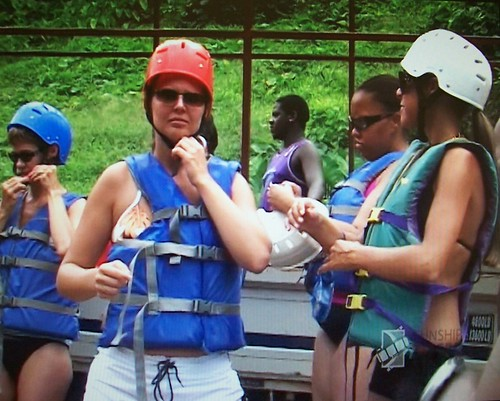helmet: (398, 19, 493, 104), (138, 24, 223, 88), (12, 86, 81, 141)
